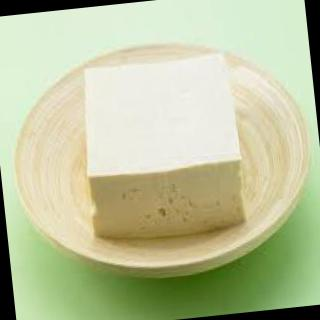Tahu: (61, 47, 268, 244)
